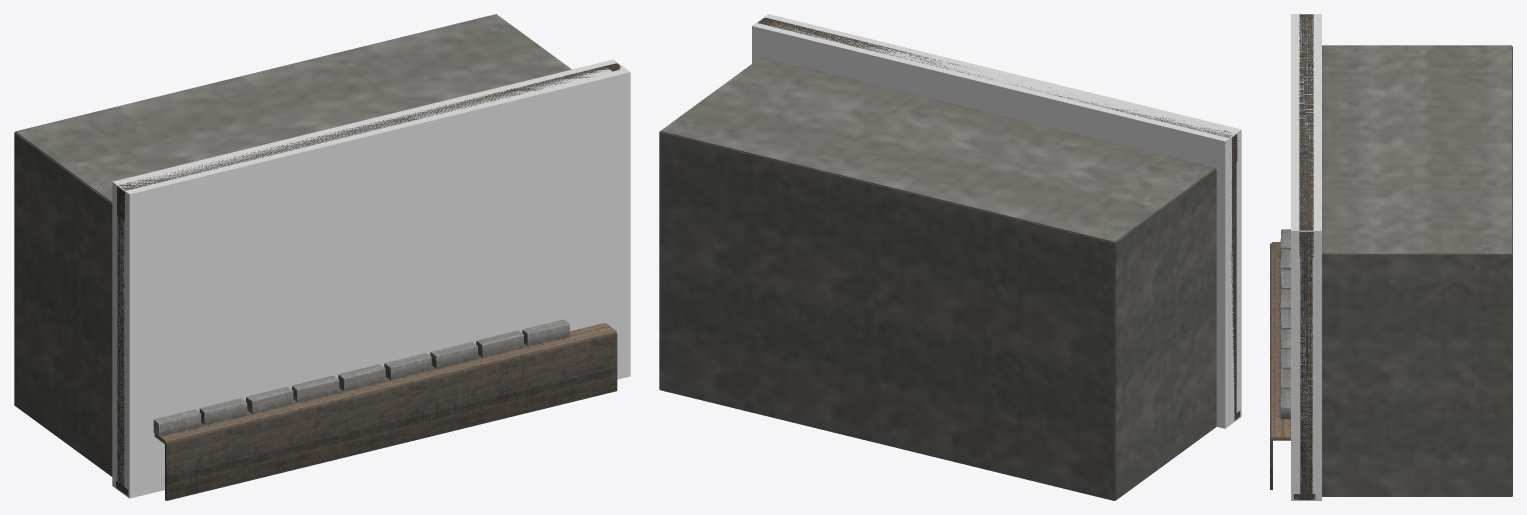
Rendered from sf03_front.gltf.
3 renders of one model, left to right at view 1: azimuth 30°, elevation 25°; view 2: azimuth 150°, elevation 25°; view 3: azimuth 270°, elevation 25°, orthographic. The views are drawn at different scales.
Visible parts, largest first — view 1: sf03_front_COL, sf03_front_LOD0; view 2: sf03_front_LOD0, sf03_front_COL; view 3: sf03_front_LOD0, sf03_front_COL.
Part boxes in pixels (x1,y1,x2,y2): sf03_front_COL: [112, 59, 630, 498]; sf03_front_LOD0: [14, 14, 620, 500]; sf03_front_LOD0: [659, 17, 1240, 500]; sf03_front_COL: [752, 14, 1241, 428]; sf03_front_LOD0: [1270, 14, 1512, 499]; sf03_front_COL: [1291, 14, 1321, 500].
Size of what is drawn, in the model's own units: 5 by 2.9 by 2.36.
Materials: 1 (1 with a texture image).
